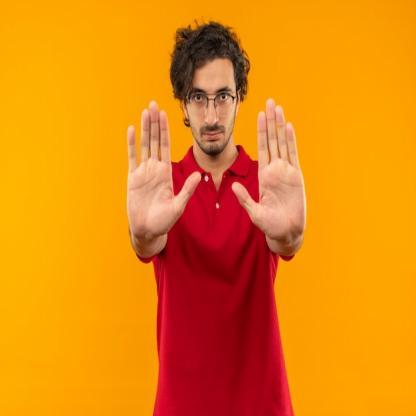stop: (230, 95, 308, 242), (124, 98, 202, 240)
